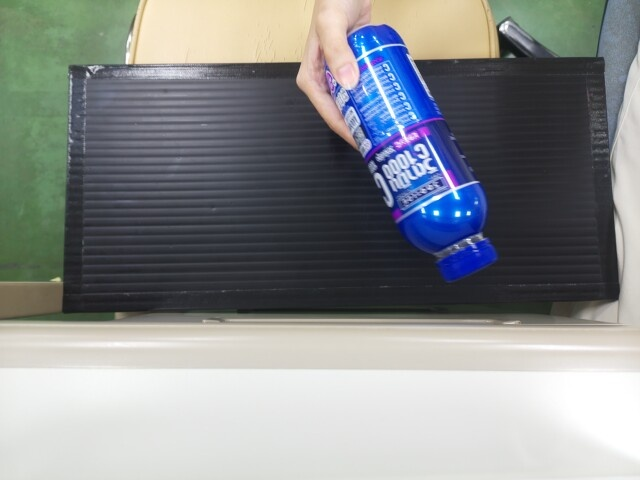plastic_bottle: (342, 21, 486, 278)
